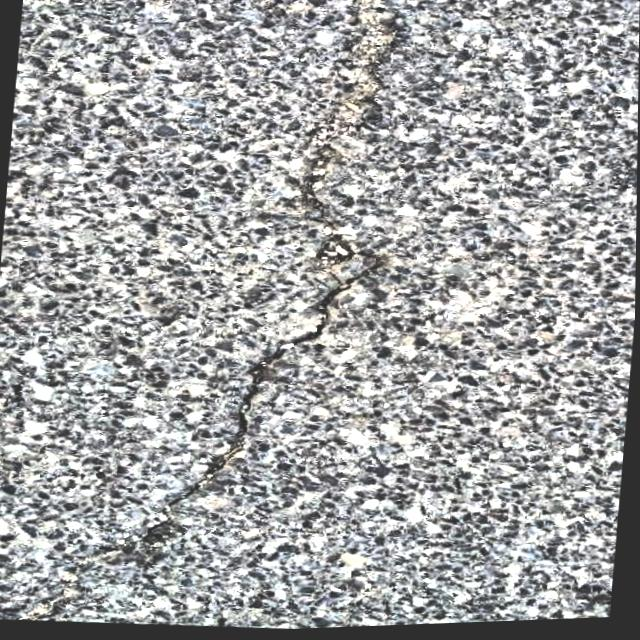cracks: (45, 302, 327, 568), (303, 0, 382, 207), (315, 218, 352, 255)
